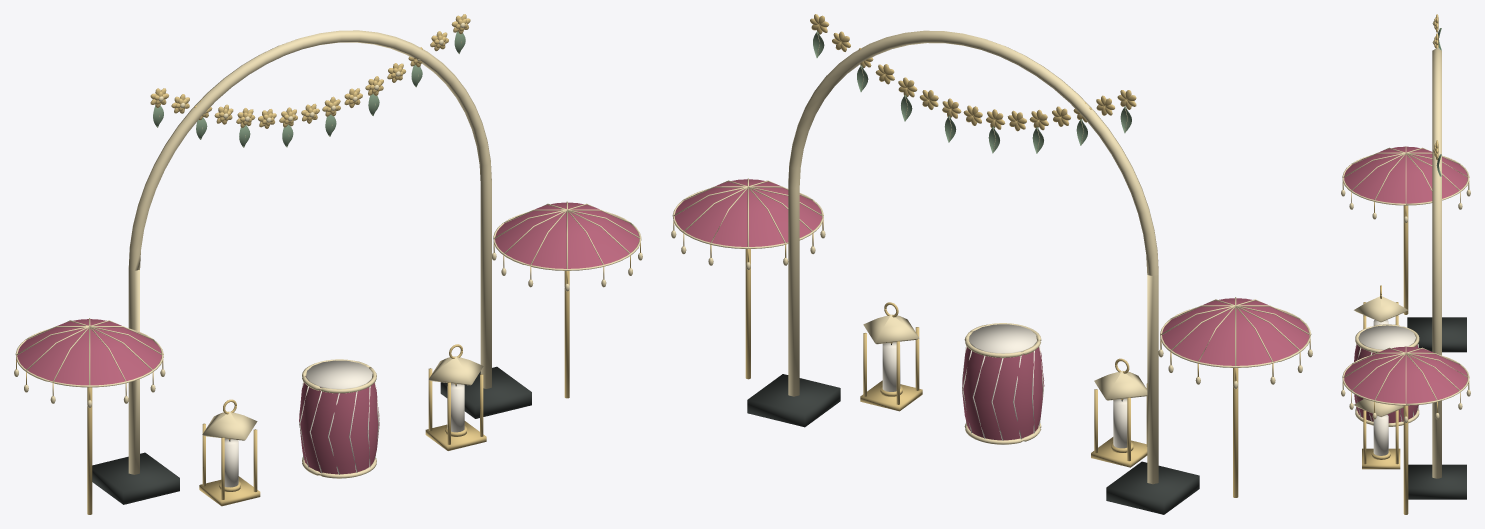
The model's file is scene-festive-entry.glb.
The picture shows the model from 3 angles, left to right: view 1: azimuth 30°, elevation 25°; view 2: azimuth 150°, elevation 25°; view 3: azimuth 270°, elevation 25°; orthographic projection. The views are drawn at different scales.
Parts seen in each view (by area): view 1: canopy-7, arch-frame-0, drum-12, feet-1, petals-2, spokes-9, roof-17, base-16, posts-18, skin-13, leaf-4, pole-6 (+4 smaller); view 2: canopy-7, arch-frame-0, drum-12, feet-1, petals-2, spokes-9, roof-17, base-16, leaf-4, skin-13, wax-19, pole-6 (+4 smaller); view 3: canopy-7, arch-frame-0, feet-1, spokes-9, pole-6, roof-17, skin-13, rim-8, wax-19, base-16, drum-12, rims-14 (+4 smaller).
Boxes of the visible parts, x1=… form: canopy-7: x1=17, y1=202, x2=639, y2=385; arch-frame-0: x1=128, y1=30, x2=491, y2=474; drum-12: x1=299, y1=376, x2=379, y2=474; feet-1: x1=92, y1=366, x2=531, y2=504; petals-2: x1=150, y1=14, x2=470, y2=128; spokes-9: x1=16, y1=201, x2=640, y2=385; roof-17: x1=202, y1=356, x2=483, y2=440; base-16: x1=199, y1=421, x2=486, y2=506; posts-18: x1=202, y1=368, x2=483, y2=499; skin-13: x1=306, y1=360, x2=372, y2=389; leaf-4: x1=153, y1=31, x2=465, y2=147; pole-6: x1=87, y1=271, x2=569, y2=514; canopy-7: x1=674, y1=179, x2=1309, y2=365; arch-frame-0: x1=788, y1=30, x2=1158, y2=484; drum-12: x1=962, y1=347, x2=1044, y2=440; feet-1: x1=747, y1=374, x2=1199, y2=514; petals-2: x1=810, y1=14, x2=1136, y2=131; spokes-9: x1=673, y1=178, x2=1310, y2=365; roof-17: x1=863, y1=314, x2=1147, y2=400; base-16: x1=860, y1=380, x2=1147, y2=467; leaf-4: x1=813, y1=31, x2=1131, y2=153; skin-13: x1=969, y1=324, x2=1036, y2=353; wax-19: x1=882, y1=342, x2=1127, y2=448; pole-6: x1=745, y1=249, x2=1238, y2=497; canopy-7: x1=1344, y1=146, x2=1467, y2=403; arch-frame-0: x1=1432, y1=48, x2=1441, y2=478; feet-1: x1=1407, y1=317, x2=1466, y2=499; spokes-9: x1=1343, y1=146, x2=1468, y2=403; pole-6: x1=1403, y1=205, x2=1408, y2=514; roof-17: x1=1354, y1=296, x2=1407, y2=416; skin-13: x1=1358, y1=325, x2=1415, y2=349; rim-8: x1=1342, y1=155, x2=1469, y2=405; wax-19: x1=1373, y1=320, x2=1388, y2=455; base-16: x1=1362, y1=448, x2=1400, y2=469; drum-12: x1=1354, y1=344, x2=1418, y2=422; rims-14: x1=1355, y1=324, x2=1419, y2=426.
Bounding box in the file's own units: 4.84 × 3.09 × 1.04.
